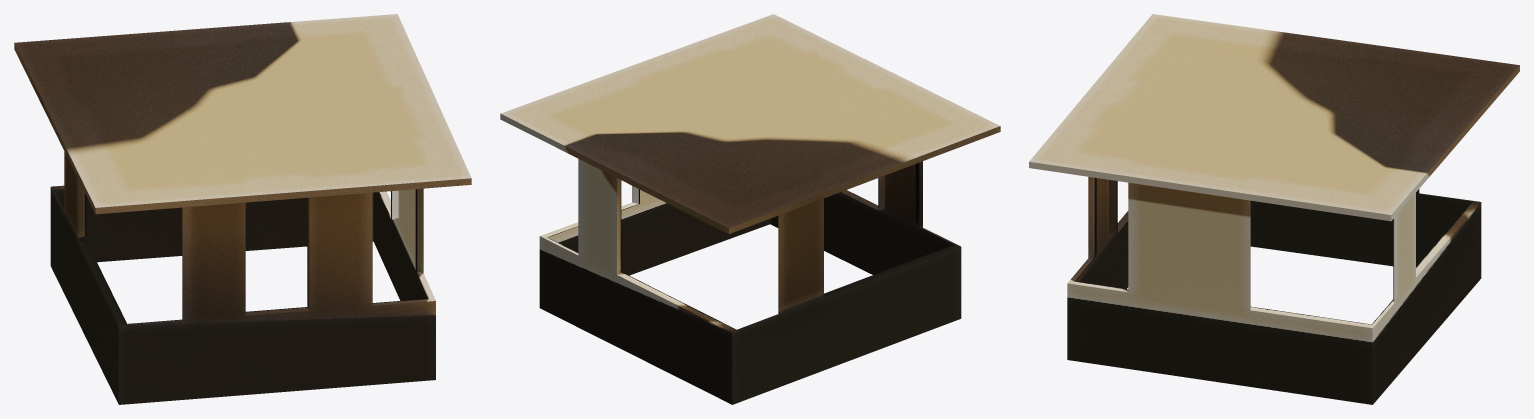
The model's file is Building_00.fbx.
3 views of the same model, side by side, from view 1: azimuth 30°, elevation 25°; view 2: azimuth 150°, elevation 25°; view 3: azimuth 270°, elevation 25° (orthographic). The views are drawn at different scales.
Parts seen in each view (by area): view 1: Building_00; view 2: Building_00; view 3: Building_00.
Boxes of the visible parts, bbox=[...] form: Building_00: bbox=[14, 14, 471, 404]; Building_00: bbox=[500, 14, 1000, 404]; Building_00: bbox=[1029, 14, 1519, 404].
Size of the model in its own units: 10.29 by 4.91 by 10.61.
Materials: 1 (1 with a texture image).
